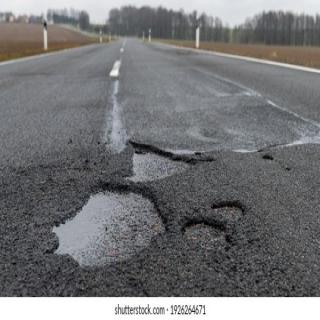pothole: (51, 182, 168, 269), (123, 142, 196, 188), (182, 214, 227, 239), (211, 198, 243, 220)
